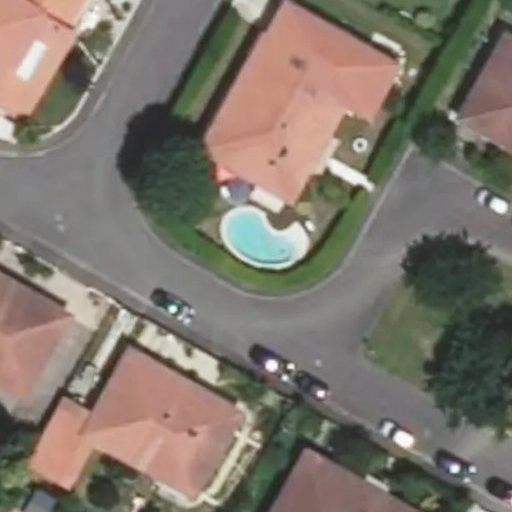pool: (219, 206, 307, 271)
